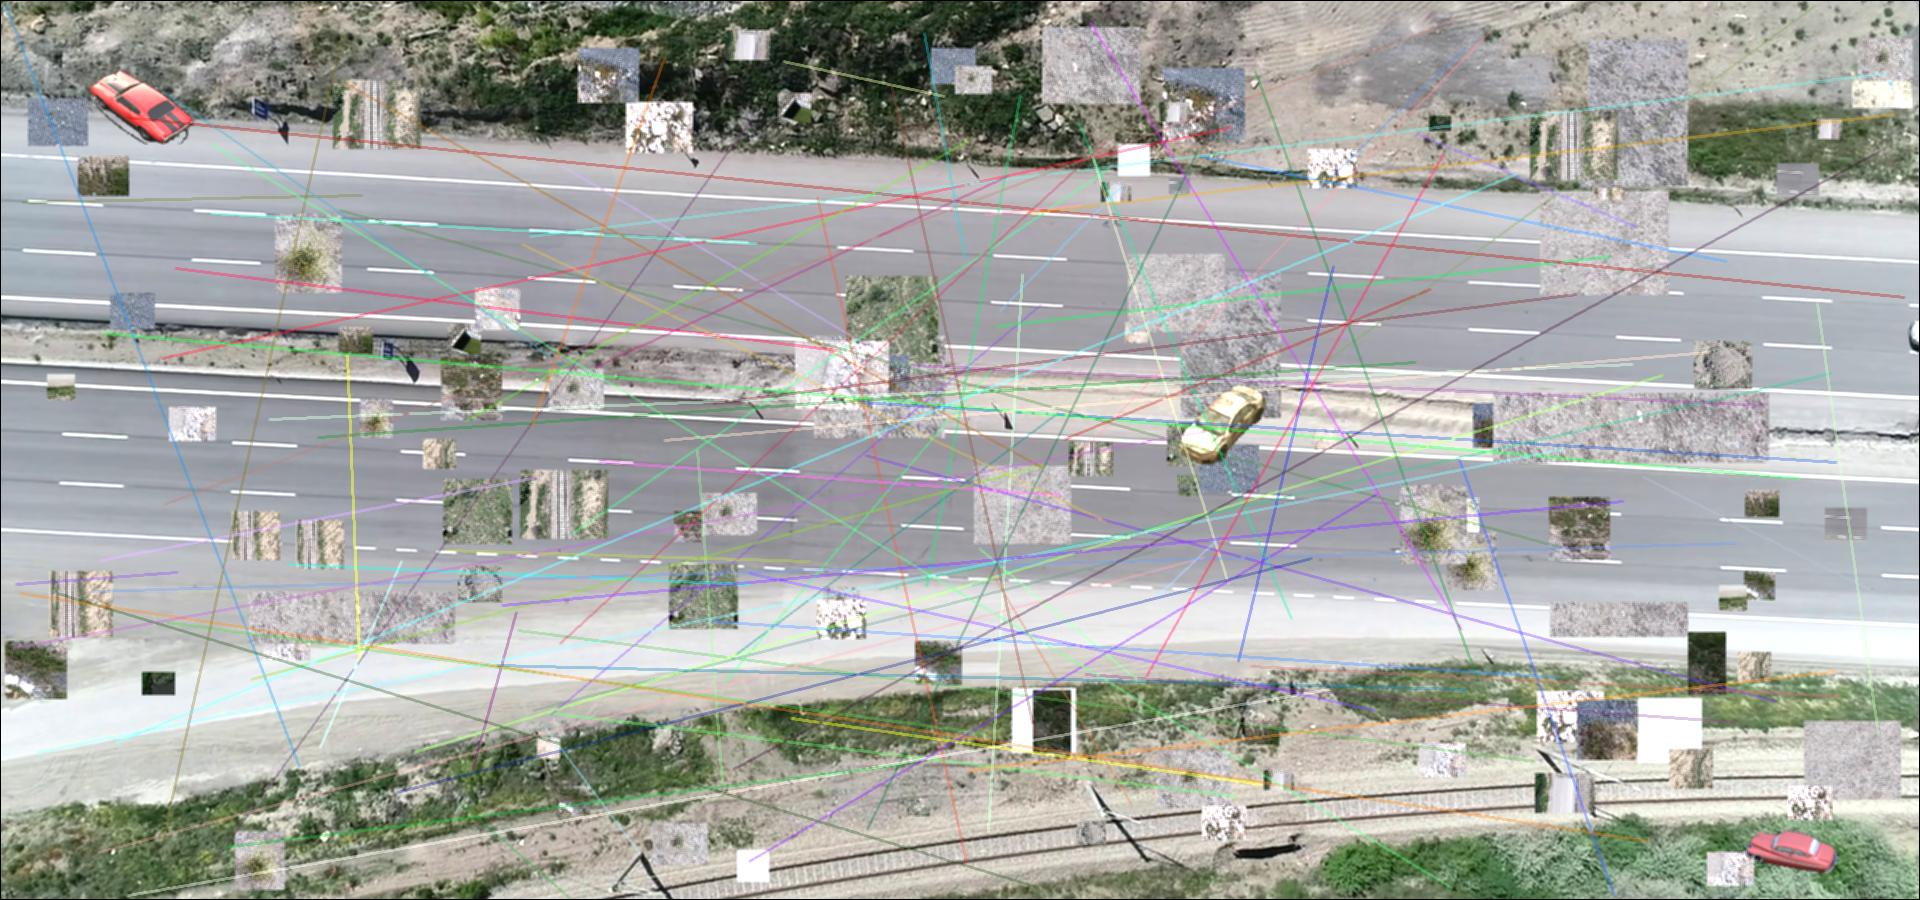arac: (87, 67, 196, 144), (1178, 384, 1275, 469), (1746, 830, 1838, 874)
